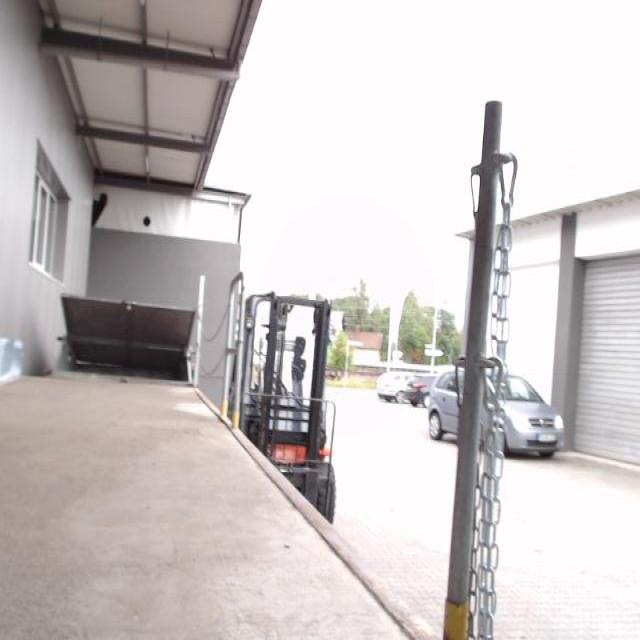forklift: (237, 291, 337, 523)
